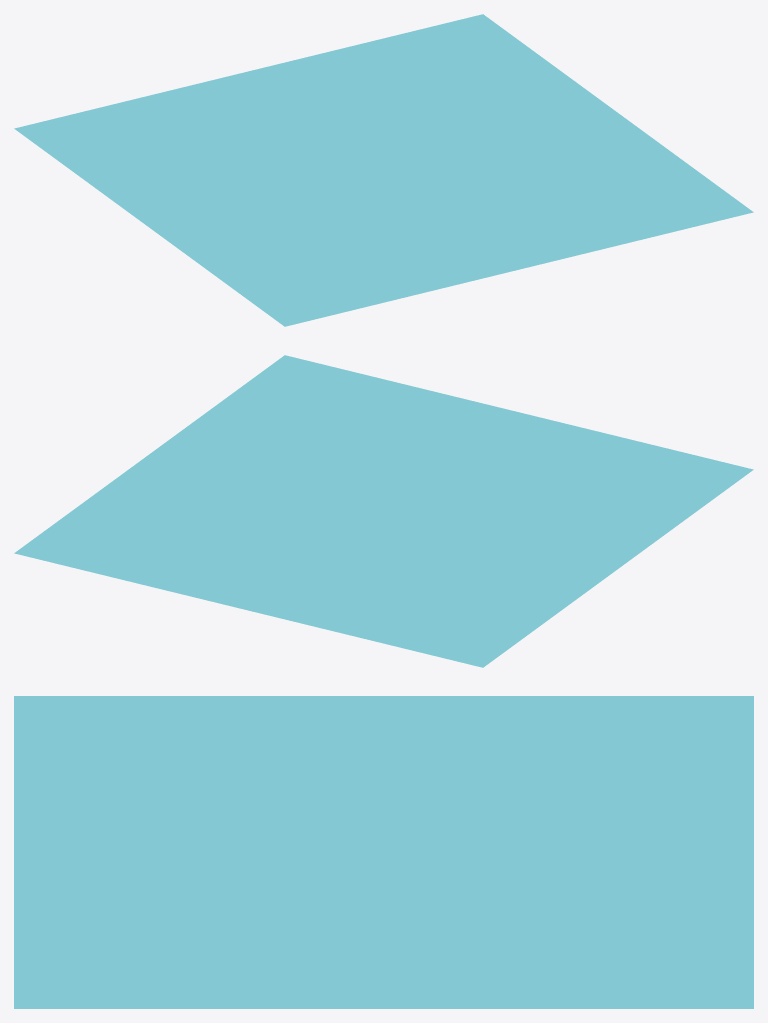
File: Ground.FBX
The picture shows the model from 3 angles, top to bottom: view 1: azimuth 30°, elevation 25°; view 2: azimuth 150°, elevation 25°; view 3: azimuth 270°, elevation 25°; orthographic projection. The views are drawn at different scales.
Visible parts, largest first — view 1: surface; view 2: surface; view 3: surface.
Boxes of the visible parts, box(x1,y1,x2,y2) form: surface: box(14, 14, 753, 326); surface: box(14, 355, 753, 667); surface: box(14, 696, 753, 1008).
Size of the model in its own units: 600 by 600 by 0.
